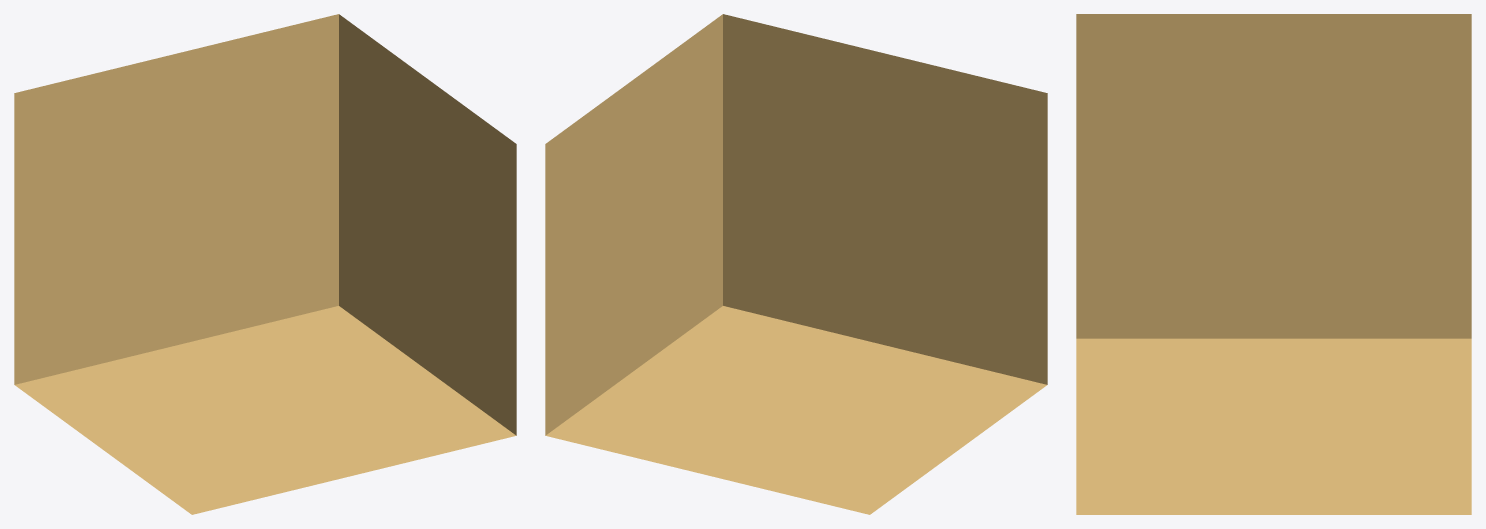
File: decorative-lighting-nagara-temple-014.glb
The picture shows the model from 3 angles, left to right: view 1: azimuth 30°, elevation 25°; view 2: azimuth 150°, elevation 25°; view 3: azimuth 270°, elevation 25°; orthographic projection. The views are drawn at different scales.
Visible parts, largest first — view 1: Nagara Temple Decorative Lighting; view 2: Nagara Temple Decorative Lighting; view 3: Nagara Temple Decorative Lighting.
Part boxes in pixels (box(x1,y1,x2,y2)): Nagara Temple Decorative Lighting: box(14, 14, 516, 514); Nagara Temple Decorative Lighting: box(545, 14, 1047, 514); Nagara Temple Decorative Lighting: box(1076, 14, 1471, 514).
Size of the model in its own units: 1.35 by 1.16 by 1.28.
